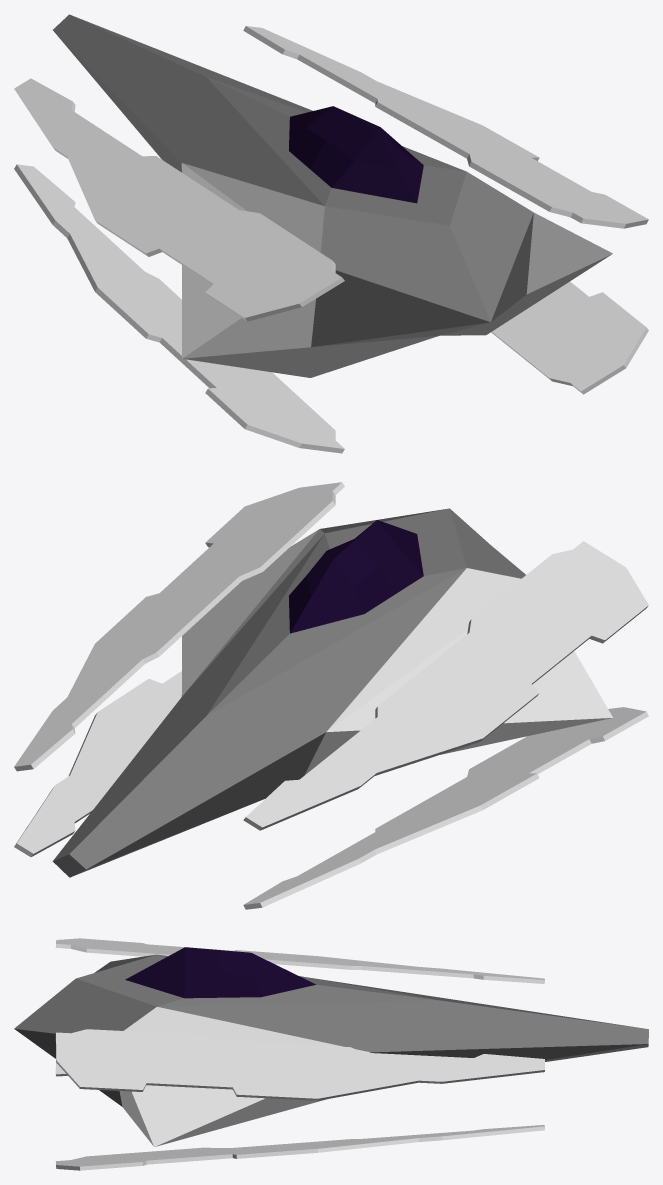
Rendered from 494_player.fbx.
3 views of the same model, one above another, from view 1: azimuth 30°, elevation 25°; view 2: azimuth 150°, elevation 25°; view 3: azimuth 270°, elevation 25° (orthographic). The views are drawn at different scales.
Parts seen in each view (by area): view 1: Hull.002, Wings.003; view 2: Hull.002, Wings.003; view 3: Hull.002, Wings.003.
Boxes of the visible parts, <box> form: Hull.002: <box>53,14,612,377</box>; Wings.003: <box>14,26,648,453</box>; Hull.002: <box>52,508,612,877</box>; Wings.003: <box>14,482,648,909</box>; Hull.002: <box>14,947,648,1146</box>; Wings.003: <box>55,938,544,1170</box>.
Bounding box in the file's own units: 72.19 × 36.89 × 122.
